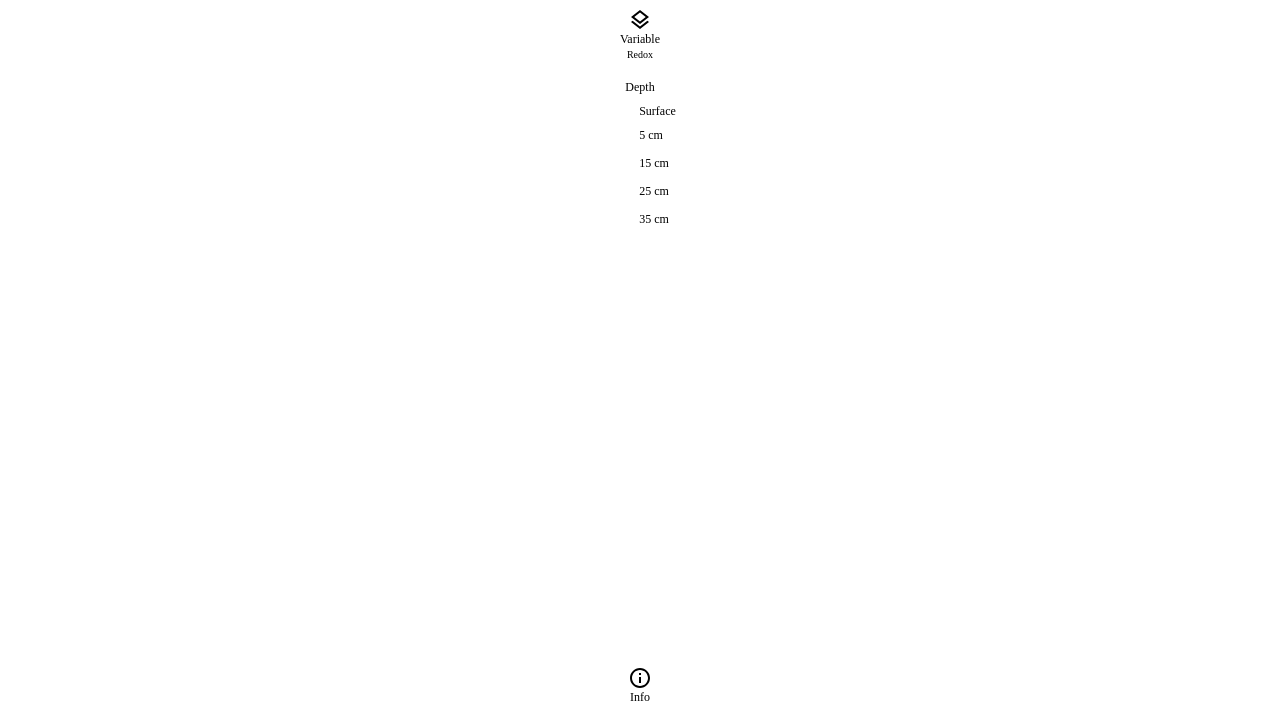
it: SidePanel variable popup › opens when the mouse rests on the button, not when it only passes over
Hover over the button "Variable Redox": (640, 35) [0,0,1279,70]
Hover over the button "Variable Redox": (640, 35) [0,0,1279,70]
Wait 120 ms
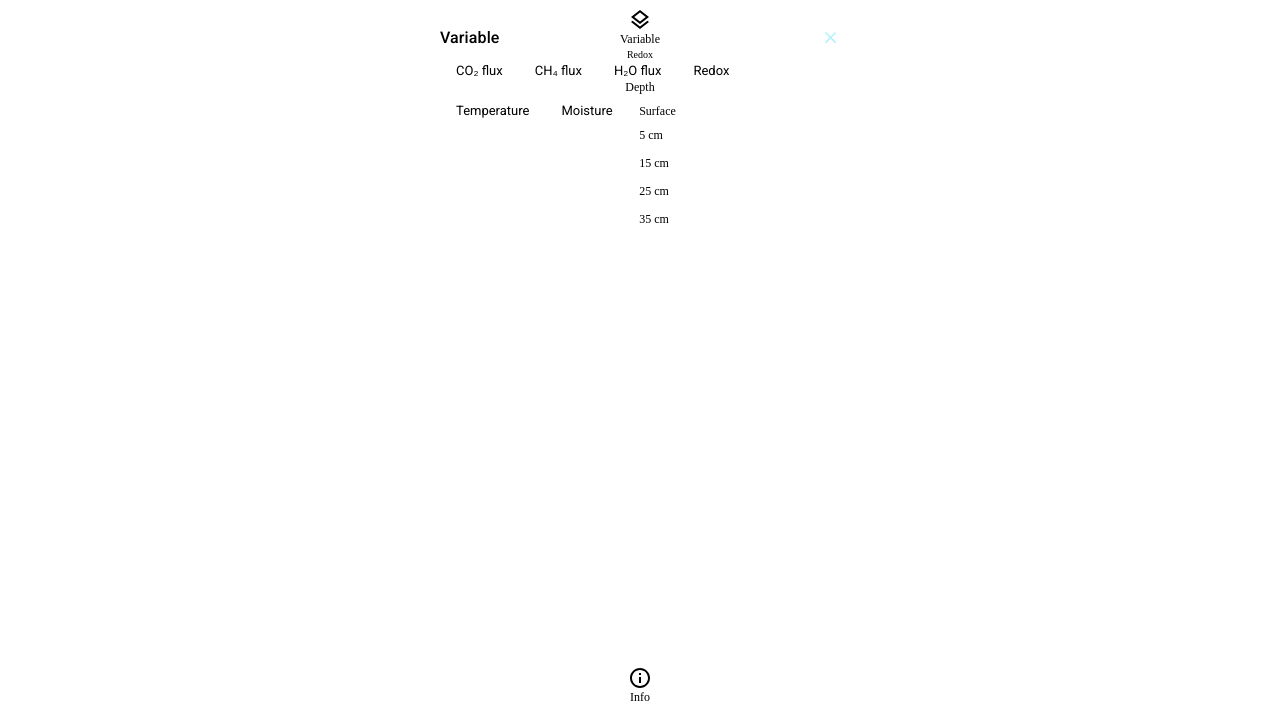
Expected: the dialog named "Variable" is shown, [425,10,855,146]
Expected: the button "Variable Redox" is expanded, [0,0,1279,70]
